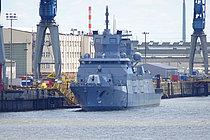MIL_Ship: (67, 17, 162, 110)
